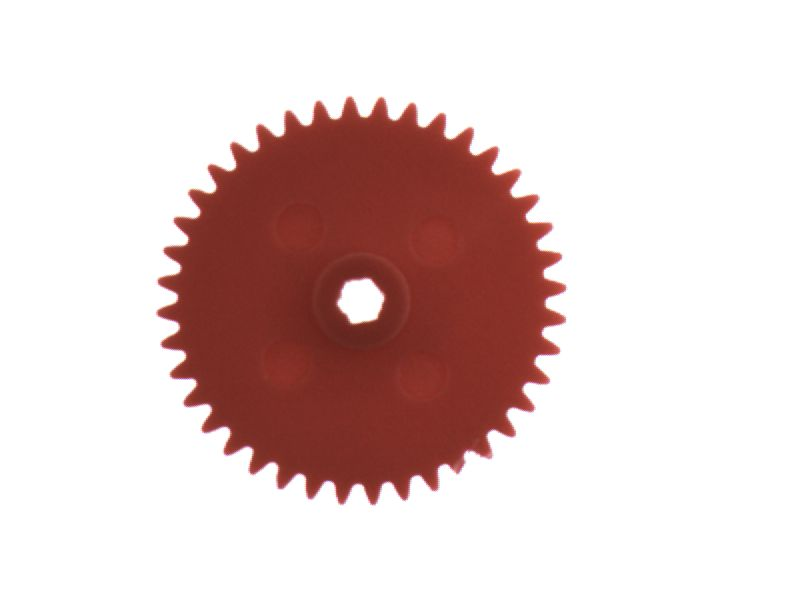defect_break: (437, 445, 483, 497)
